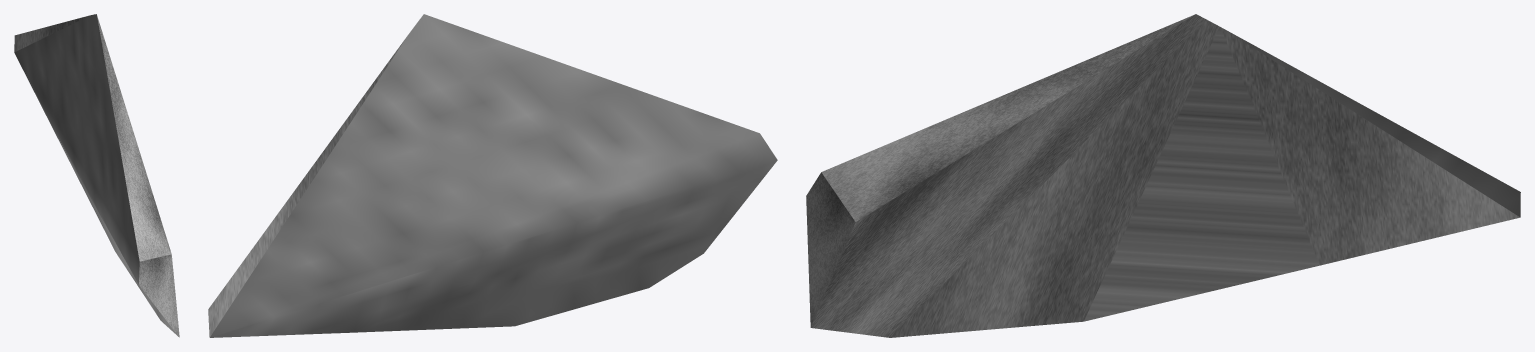
Rendered from body_cell.fbx.
3 views of the same model, side by side, from view 1: azimuth 30°, elevation 25°; view 2: azimuth 150°, elevation 25°; view 3: azimuth 270°, elevation 25° (orthographic). The views are drawn at different scales.
Parts seen in each view (by area): view 1: body_cell; view 2: body_cell; view 3: body_cell.
Part boxes in pixels (x1,y1,x2,y2): body_cell: (14,14,179,337); body_cell: (208,14,777,337); body_cell: (806,14,1520,337).
Size of the model in its own units: 8.78 by 17.8 by 32.93.
